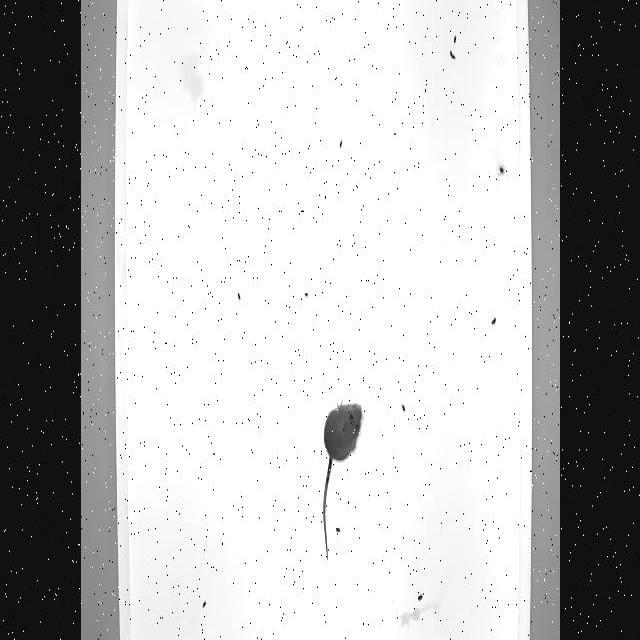rat: (320, 400, 366, 563)
